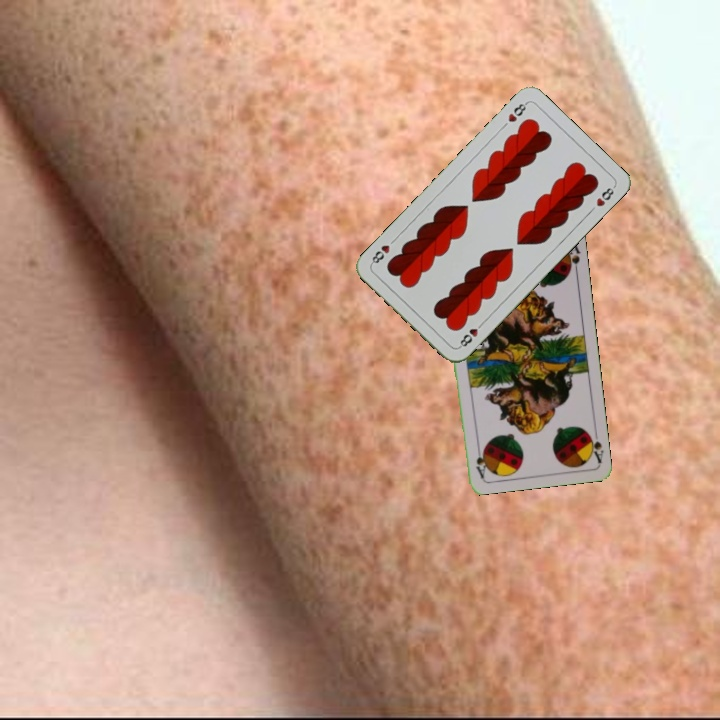H8: (455, 318, 486, 350), (504, 98, 530, 125)
SA: (583, 424, 606, 465)
